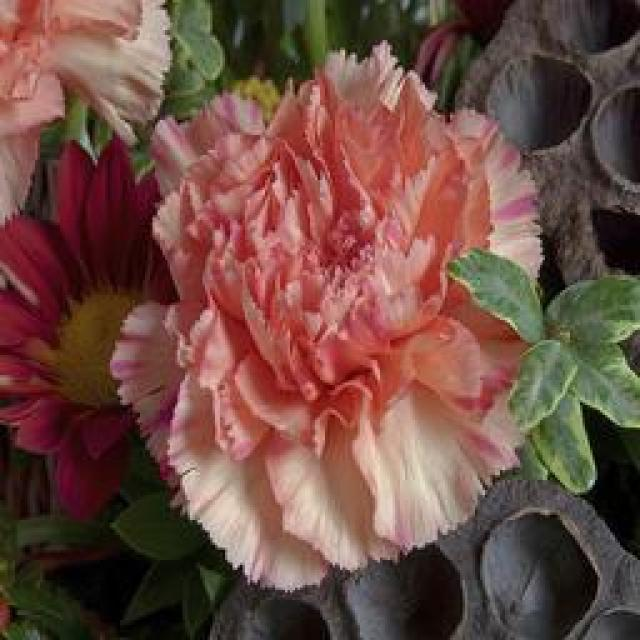carnation: (127, 50, 531, 554)
